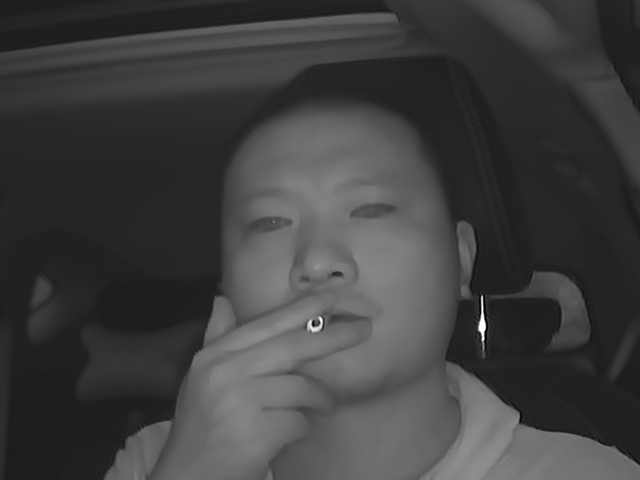hand: (224, 293, 371, 449)
